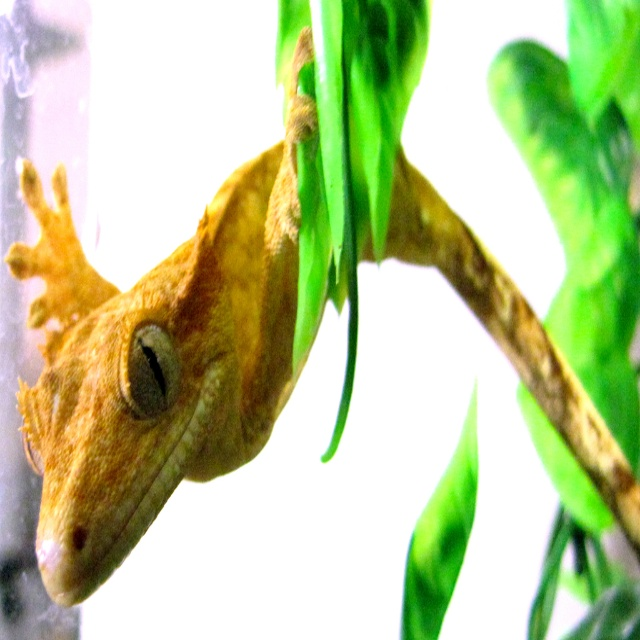Lizard: (4, 30, 640, 607)
